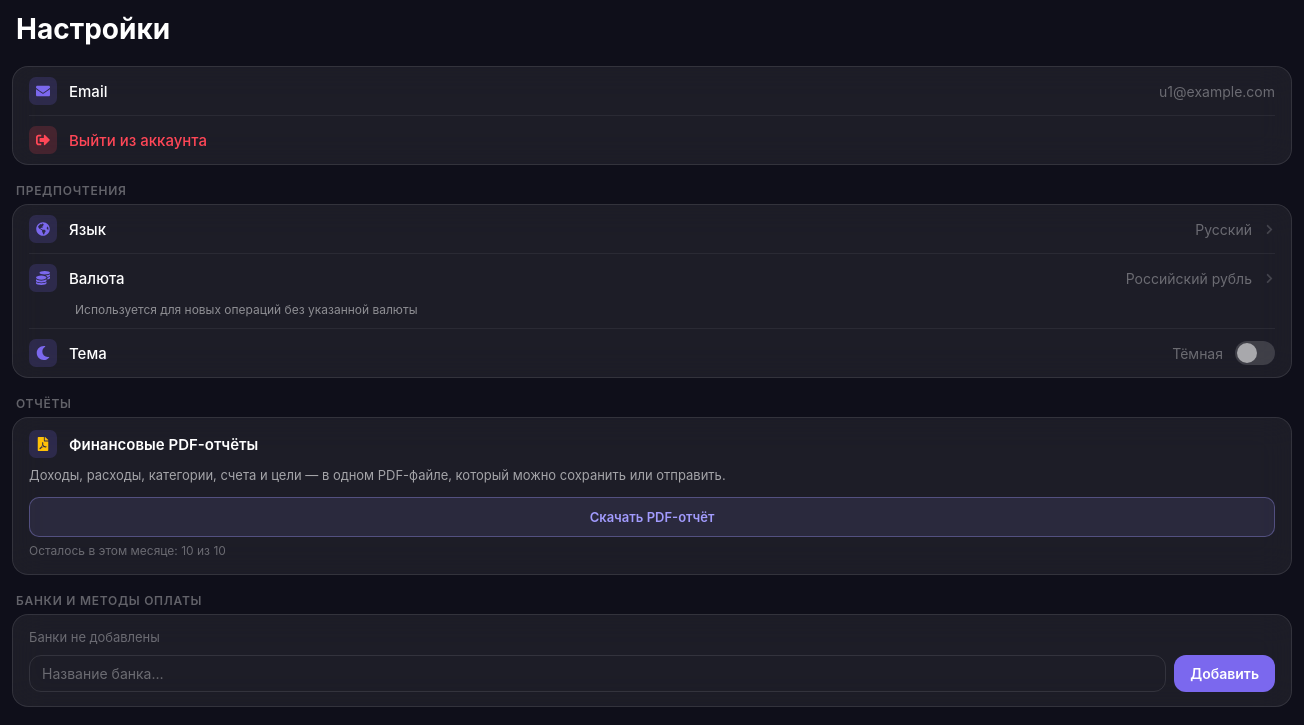
Test: Settings: a network failure, and the button works again afterwards
Click the button "Скачать PDF-отчёт" at (652, 517), box 29,497 -> 1275,537
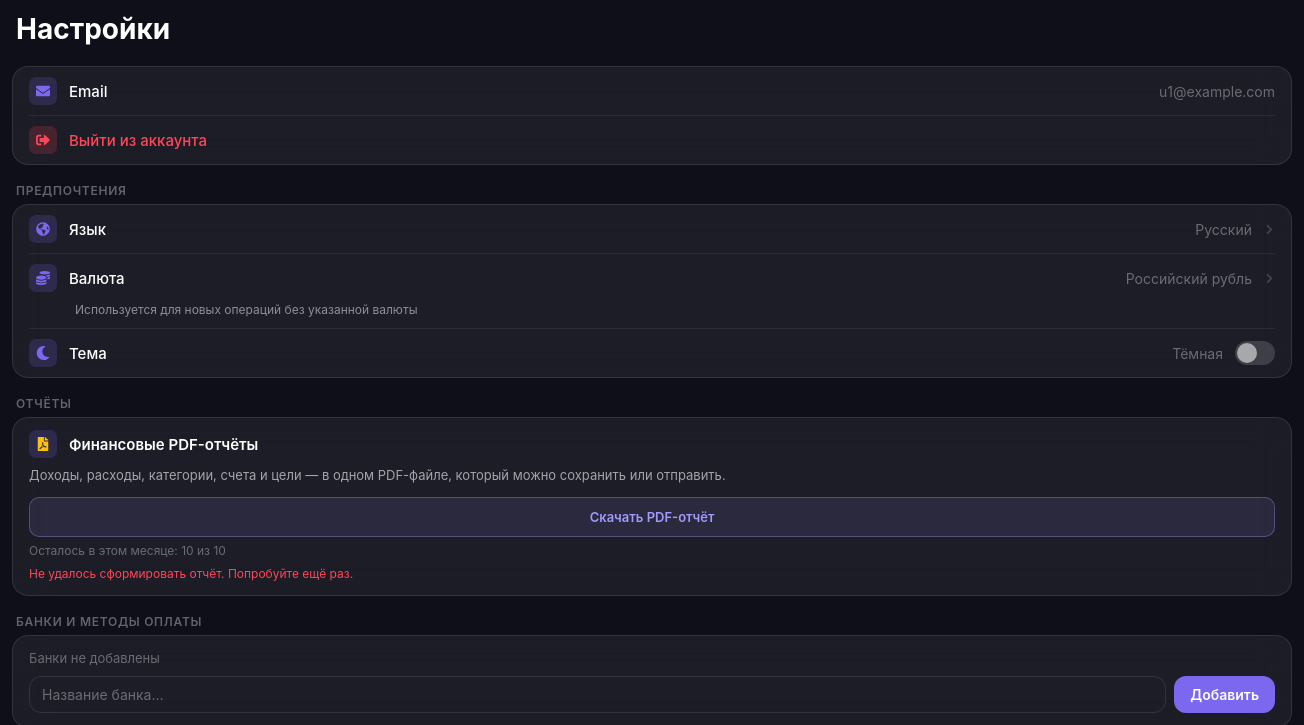
Expected: the message reads "Не удалось сформировать отчёт. Попробуйте ещё раз.", 29,566 -> 353,581
